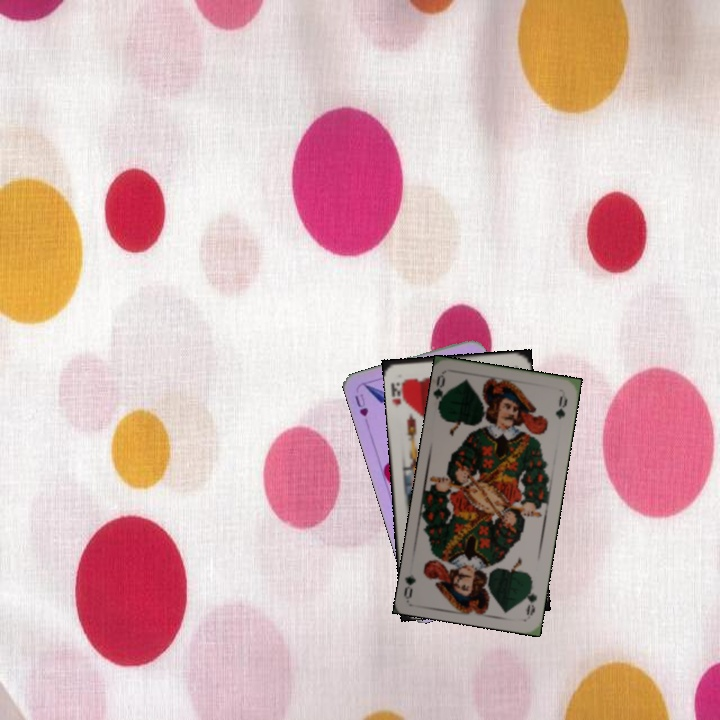GO: (431, 371, 453, 412), (521, 577, 540, 618)
HK: (387, 375, 409, 408)
HU: (351, 389, 371, 419)
